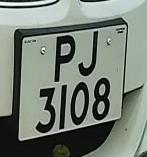0: (68, 78, 91, 130)
1: (57, 83, 70, 132)
3: (33, 84, 58, 136)
8: (89, 75, 114, 125)
J: (73, 27, 103, 79)
P: (50, 30, 79, 81)
